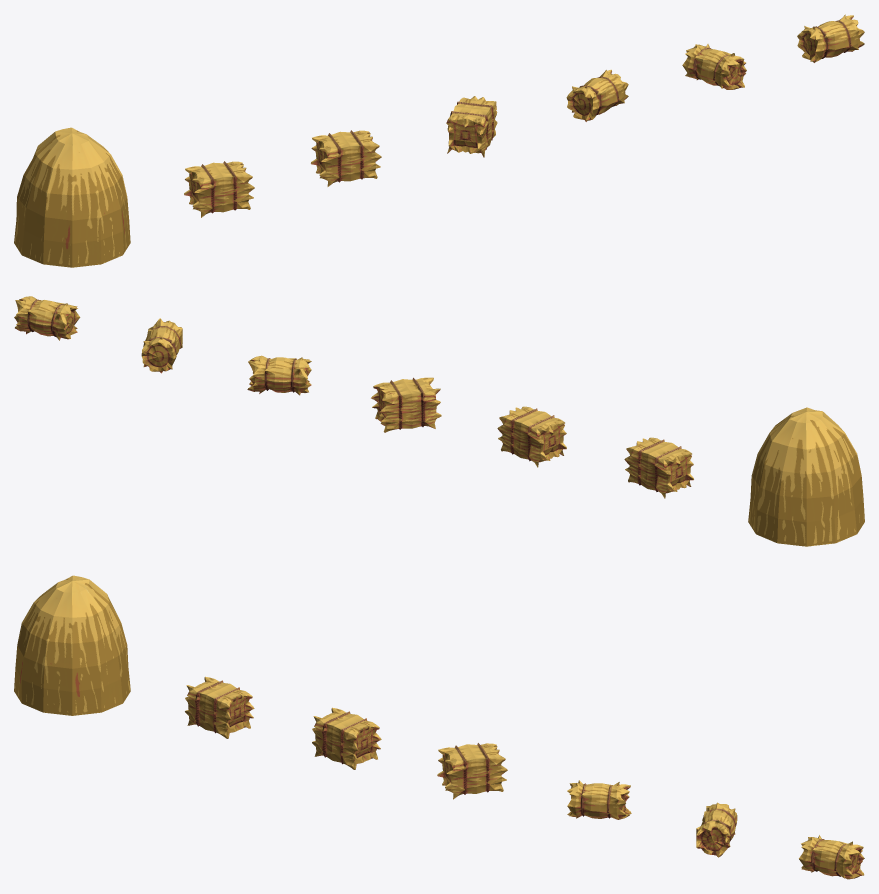
The model's file is HayBales.fbx.
3 renders of one model, top to bottom at view 1: azimuth 30°, elevation 25°; view 2: azimuth 150°, elevation 25°; view 3: azimuth 330°, elevation 25°, orthographic.
Visible parts, largest first — view 1: HayBales_01, HayBales_03, HayBales_02, HayBales_04, HayBales_07, HayBales_06, HayBales_05; view 2: HayBales_01, HayBales_04, HayBales_02, HayBales_03, HayBales_07, HayBales_05, HayBales_06; view 3: HayBales_01, HayBales_03, HayBales_02, HayBales_04, HayBales_07, HayBales_05, HayBales_06.
Boxes of the visible parts, x1,y1,x2,y2 form: HayBales_01: (14, 127, 130, 267); HayBales_03: (311, 130, 381, 186); HayBales_02: (184, 161, 254, 217); HayBales_04: (446, 96, 497, 157); HayBales_07: (797, 14, 864, 62); HayBales_06: (682, 44, 746, 89); HayBales_05: (566, 69, 628, 121); HayBales_01: (748, 407, 864, 546); HayBales_04: (371, 377, 441, 432); HayBales_02: (624, 437, 693, 498); HayBales_03: (497, 406, 566, 467); HayBales_07: (14, 296, 80, 340); HayBales_05: (247, 355, 311, 395); HayBales_06: (141, 318, 182, 373); HayBales_01: (14, 575, 130, 715); HayBales_03: (312, 707, 381, 769); HayBales_02: (185, 676, 254, 738); HayBales_04: (437, 743, 507, 799); HayBales_07: (799, 835, 864, 879); HayBales_05: (567, 780, 631, 819); HayBales_06: (696, 802, 737, 857).
Size of the model in its own units: 12.67 by 1.59 by 1.53.
Materials: 1 (1 with a texture image).
